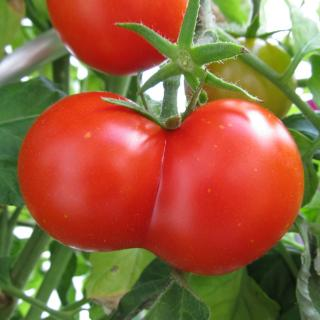tomato: (18, 73, 304, 275), (42, 0, 189, 78)
